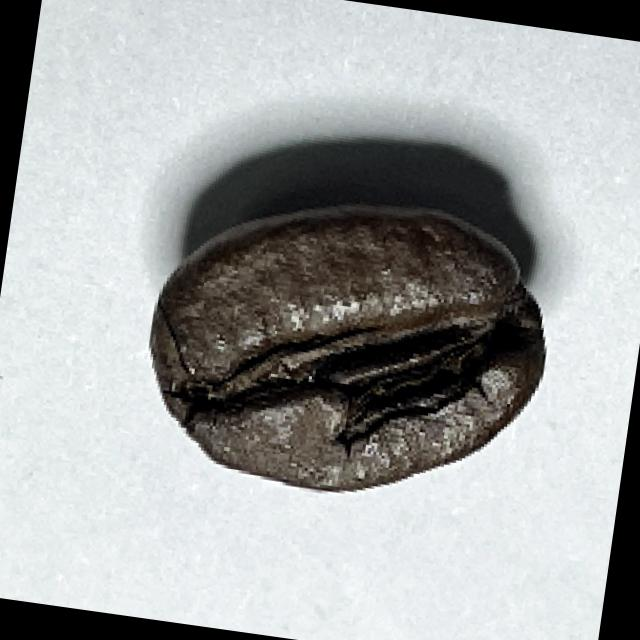bean: (132, 174, 569, 520)
